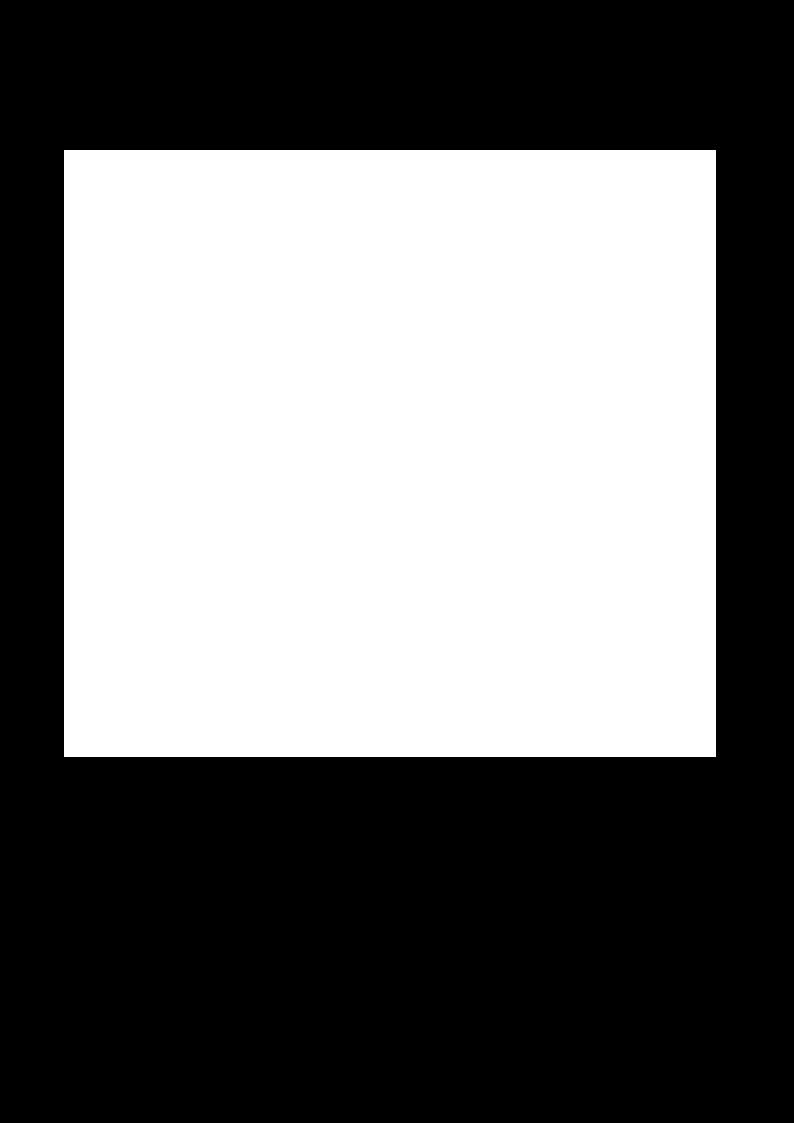table: (64, 150, 715, 756)
